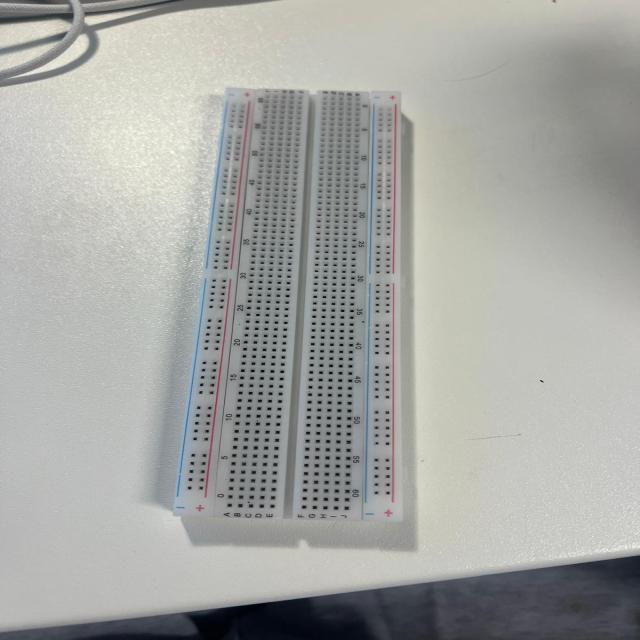BreadBoard: (155, 72, 437, 563)
